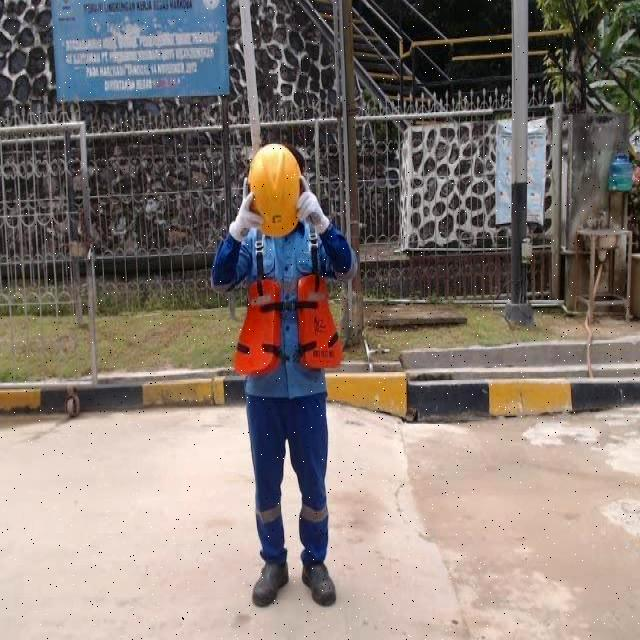Hard_hat: (249, 144, 301, 236)
Vest: (237, 225, 340, 381)
